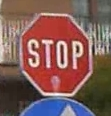stop: (17, 9, 93, 98)
